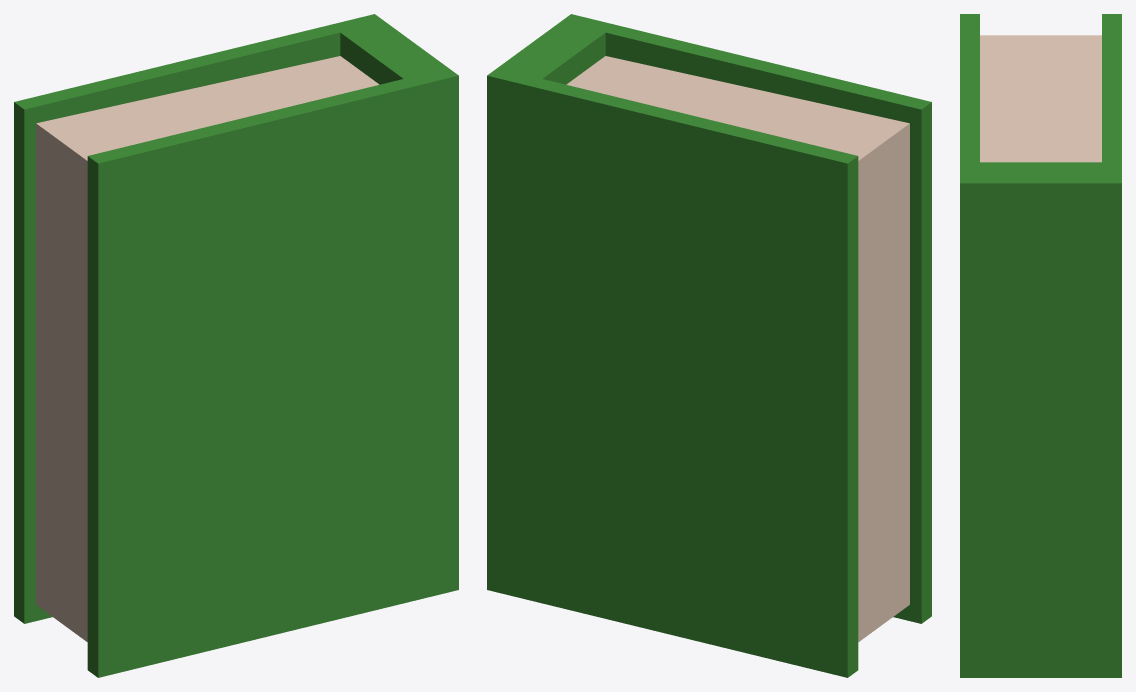
Rendered from Book3.fbx.
3 views of the same model, side by side, from view 1: azimuth 30°, elevation 25°; view 2: azimuth 150°, elevation 25°; view 3: azimuth 270°, elevation 25° (orthographic). The views are drawn at different scales.
Visible parts, largest first — view 1: Cube.201; view 2: Cube.201; view 3: Cube.201.
Boxes of the visible parts, box(x1,y1,x2,y2) form: Cube.201: box(14, 14, 458, 677); Cube.201: box(487, 14, 931, 677); Cube.201: box(960, 14, 1121, 677).
Bounding box in the file's own units: 44.72 × 60.92 × 18.08.
